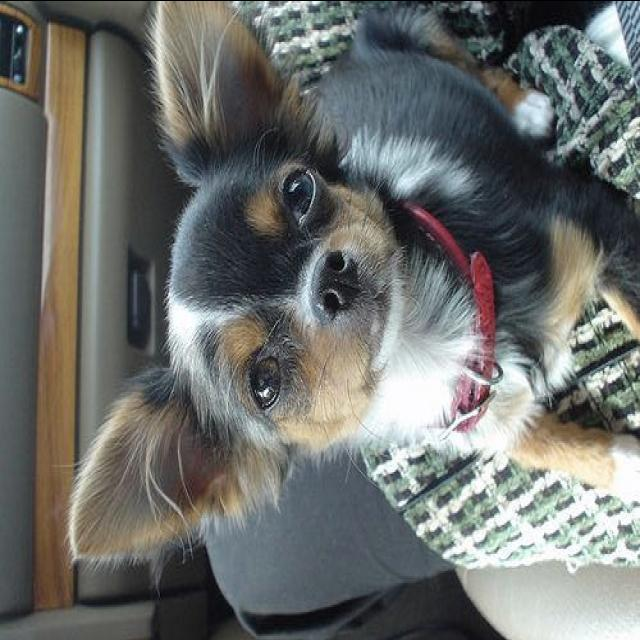chihuahua: (41, 5, 637, 589)
